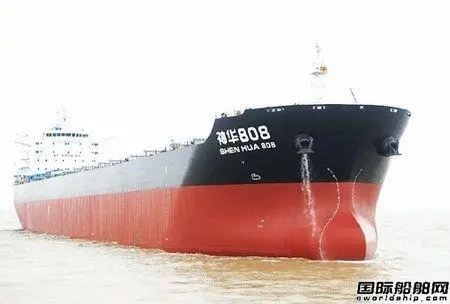Cargoship: (9, 33, 420, 265)
